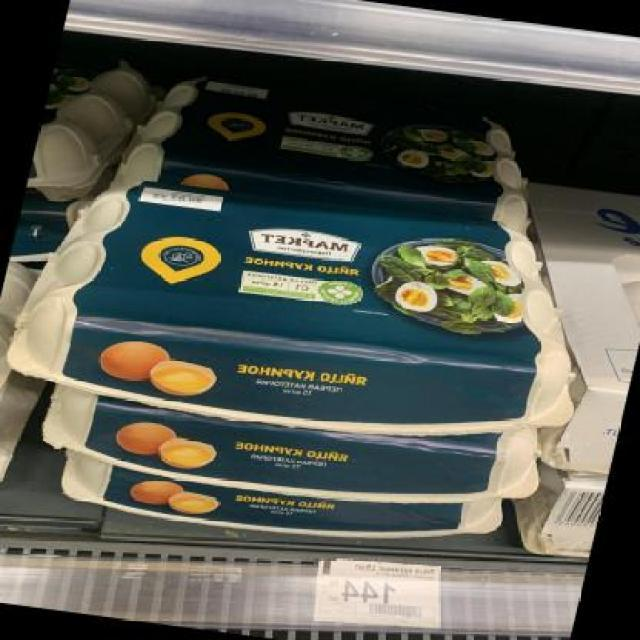egg: (0, 155, 615, 462), (121, 63, 548, 223), (33, 380, 545, 512), (24, 81, 124, 207)
